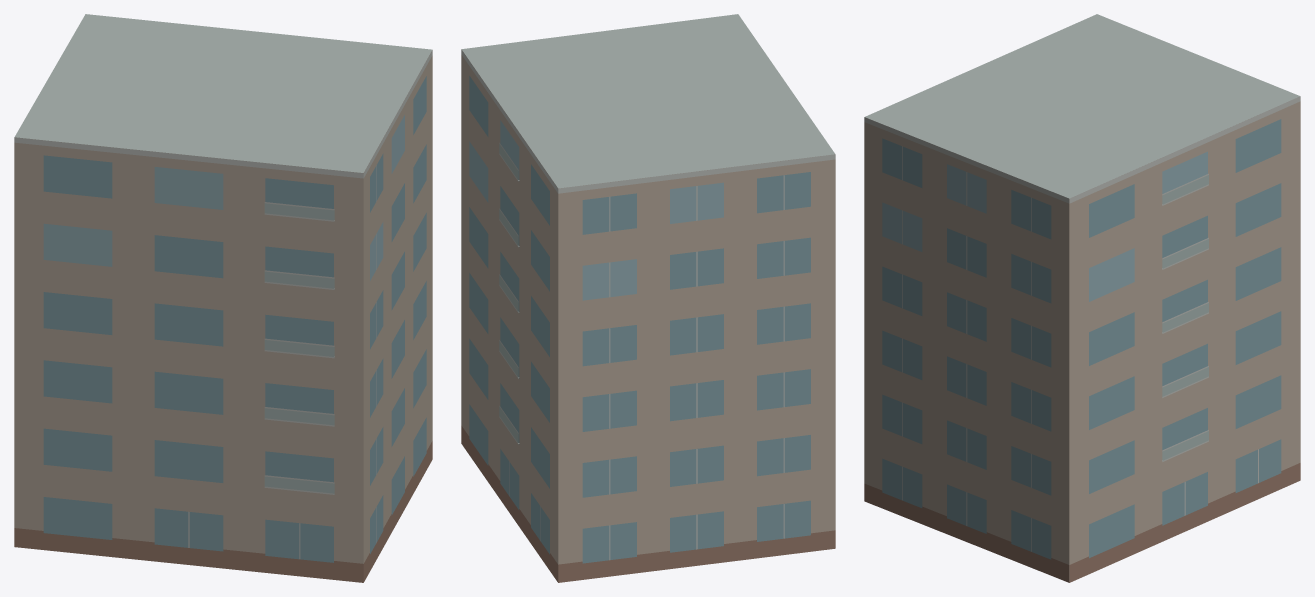
The model's file is survey-upis-32747780.glb.
3 renders of one model, left to right at view 1: azimuth 30°, elevation 25°; view 2: azimuth 150°, elevation 25°; view 3: azimuth 270°, elevation 25°, orthographic. The views are drawn at different scales.
Parts seen in each view (by area): view 1: survey-upis-32747780.tmp; view 2: survey-upis-32747780.tmp; view 3: survey-upis-32747780.tmp.
Part boxes in pixels (x1,y1,x2,y2): survey-upis-32747780.tmp: [14, 14, 432, 582]; survey-upis-32747780.tmp: [461, 14, 835, 582]; survey-upis-32747780.tmp: [864, 14, 1300, 582].
Size of the model in its own units: 19.07 by 18.5 by 19.04.
